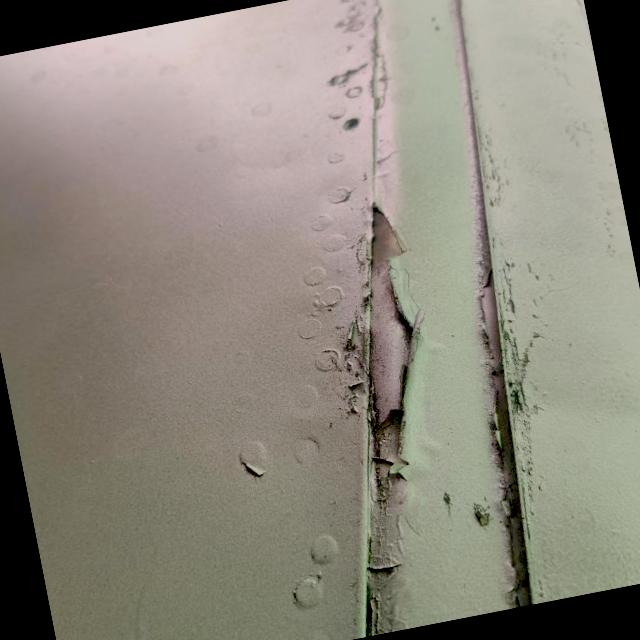paint-off: (292, 180, 476, 504)
